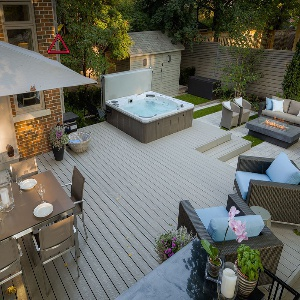triangle: (43, 32, 73, 56)
